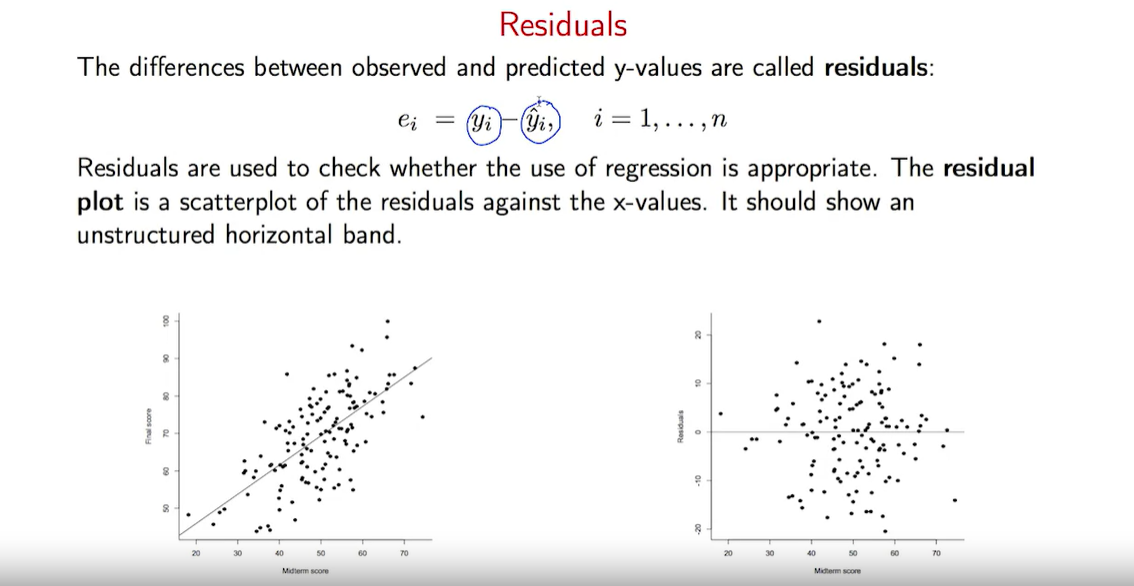equation: (398, 101, 726, 135)
figure: (139, 302, 439, 580), (674, 305, 969, 575)
text: (74, 151, 1038, 246), (71, 53, 939, 84), (501, 8, 629, 43)
